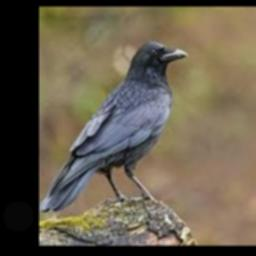Crow: (39, 40, 188, 213)
